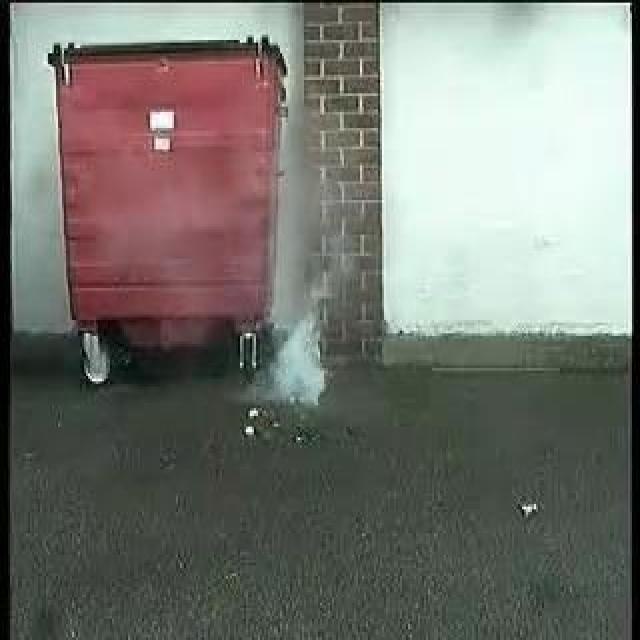Smoke: (271, 163, 335, 408)
